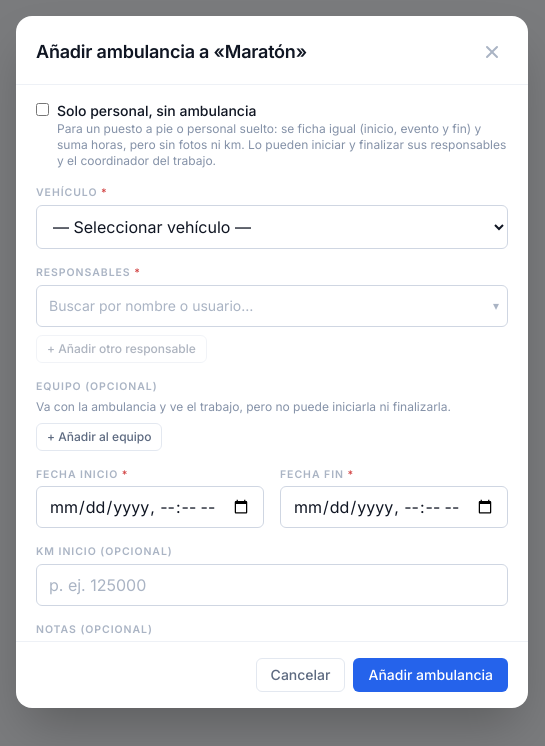
Test: AsignacionForm · solo personal (v43) › al añadir a un trabajo, la casilla quita el vehículo y los km
expect the text "Km inicio (opcional)" is shown: met, box [36,545,173,558]
What coordinates should you click on to do the following:
click the checkbox labelled "Solo personal, sin ambulancia"
I would click on:
 (42, 110)
Its box is [36,103,49,116].
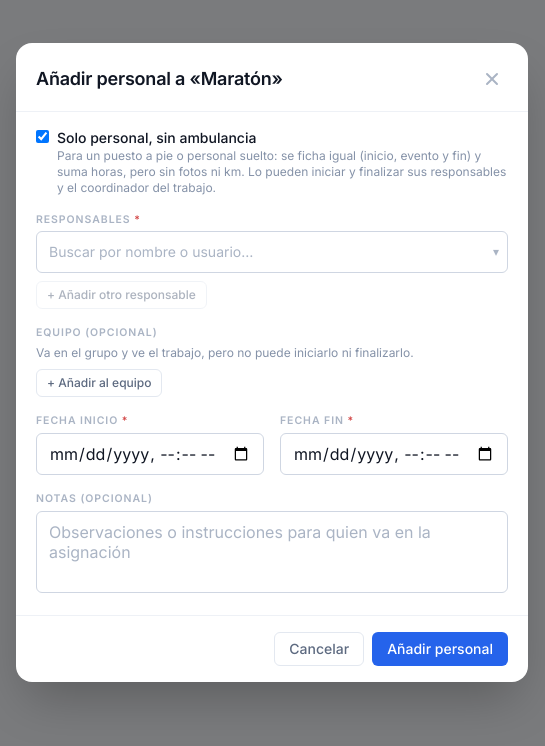
expect the text "— Seleccionar vehículo —" is not shown: met
expect the text "Km inicio (opcional)" is gone: met
expect the button "Añadir personal" is shown: met, box [372,632,508,666]
